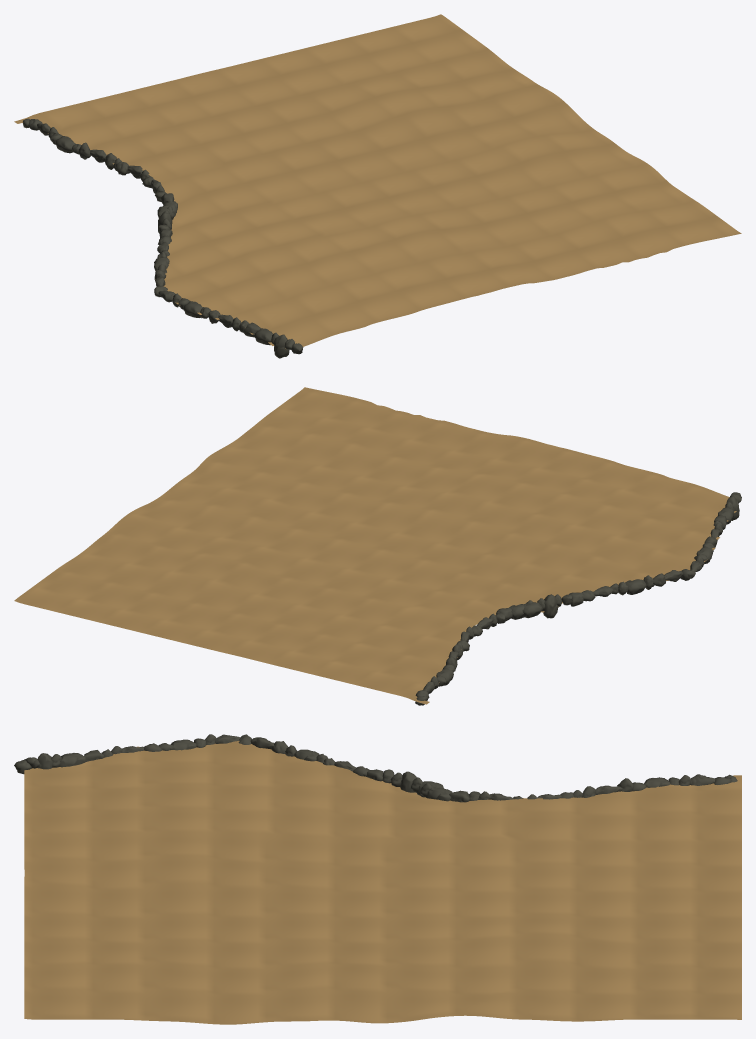
Rendered from ground_02.fbx.
3 renders of one model, top to bottom at view 1: azimuth 30°, elevation 25°; view 2: azimuth 150°, elevation 25°; view 3: azimuth 270°, elevation 25°, orthographic. The views are drawn at different scales.
Parts seen in each view (by area): view 1: polySurface_ground_02; view 2: polySurface_ground_02; view 3: polySurface_ground_02.
Boxes of the visible parts, x1=… form: polySurface_ground_02: x1=14, y1=14, x2=741, y2=358; polySurface_ground_02: x1=14, y1=387, x2=741, y2=705; polySurface_ground_02: x1=14, y1=734, x2=741, y2=1024.
Bounding box in the file's own units: 491 × 25.16 × 520.
